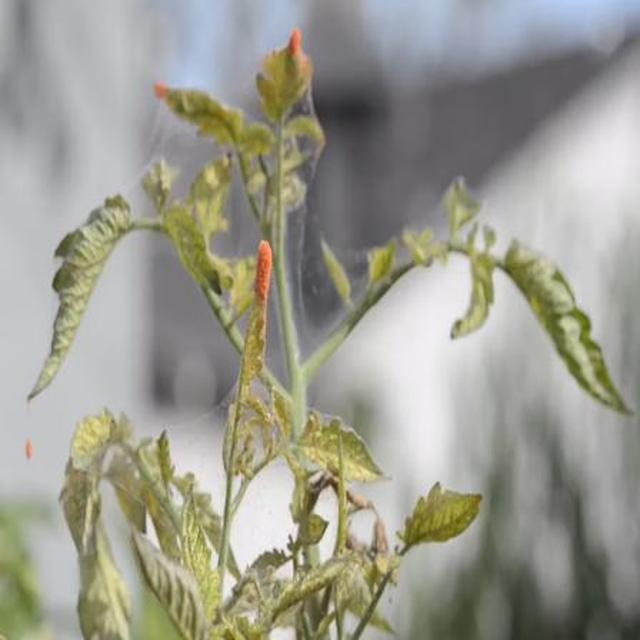Spider Mites Leaf: (57, 94, 628, 640)
